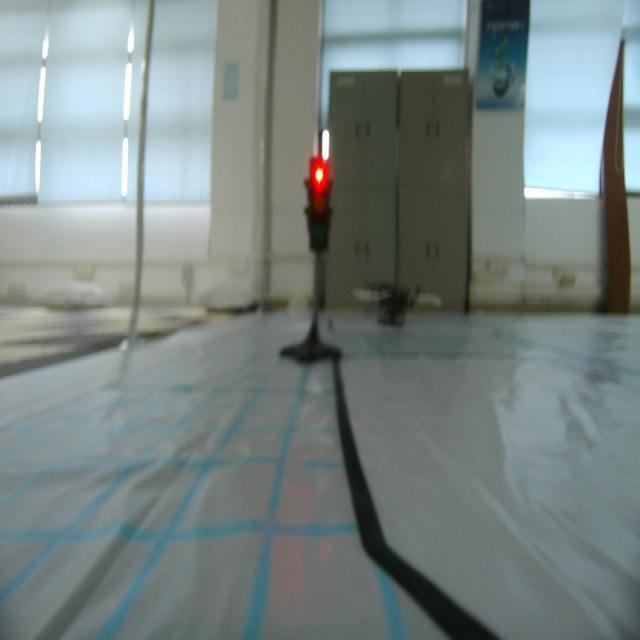red: (302, 155, 334, 258)
